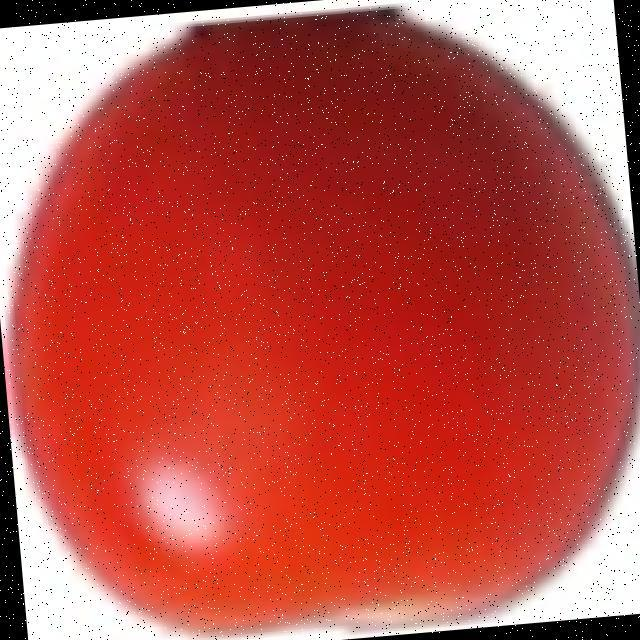tomato: (10, 18, 640, 636)
